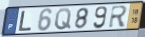6: (36, 8, 54, 33)
8: (74, 7, 90, 30)
9: (93, 5, 109, 30)
L: (18, 10, 33, 32)
Q: (54, 7, 73, 31)
R: (107, 5, 129, 30)
